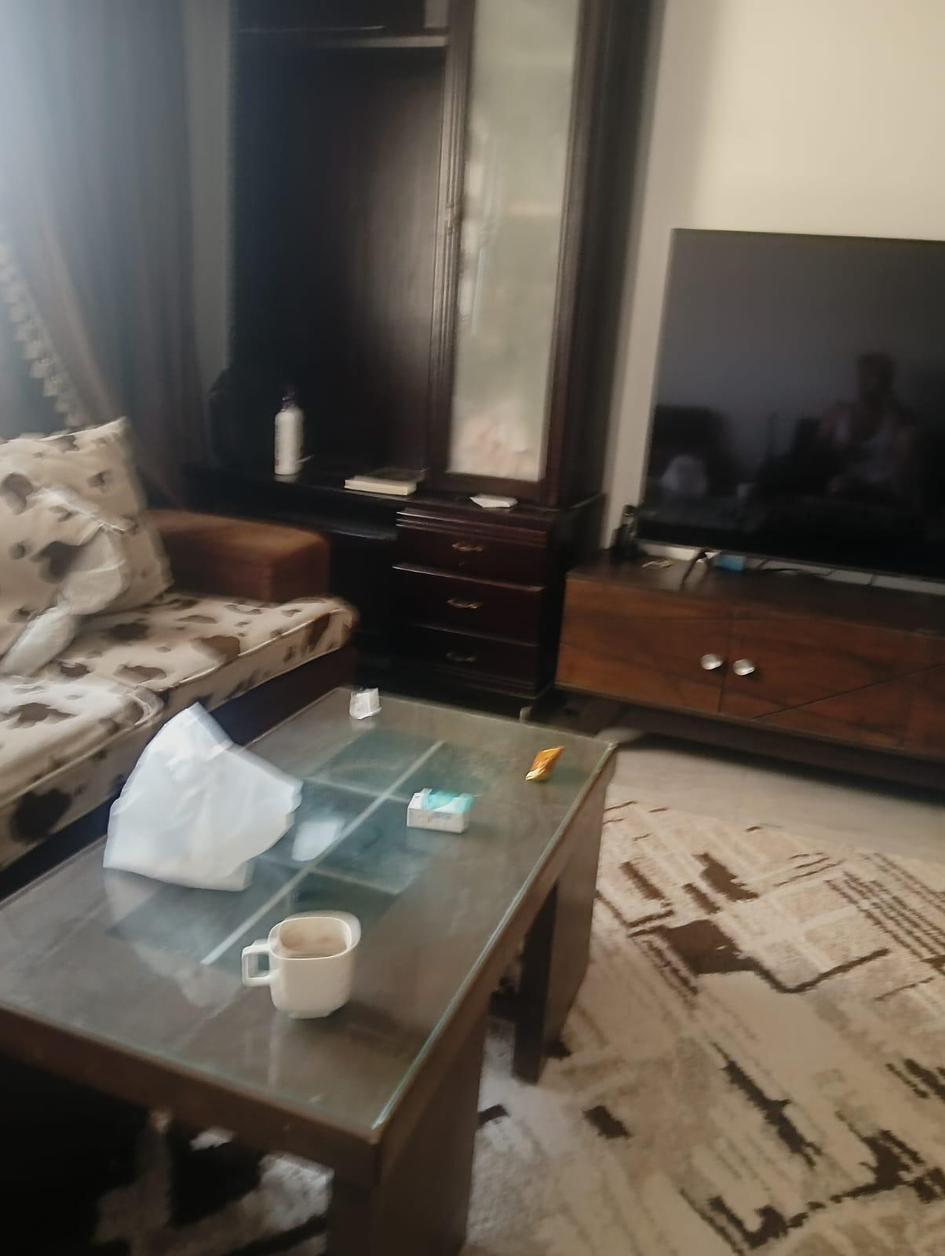cup: (242, 911, 360, 1017)
